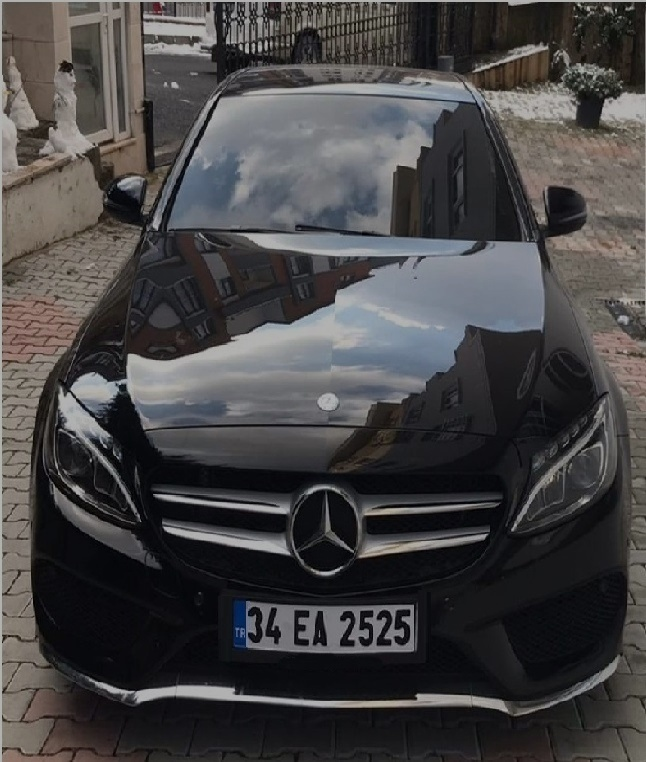plaka: (239, 602, 417, 649)
